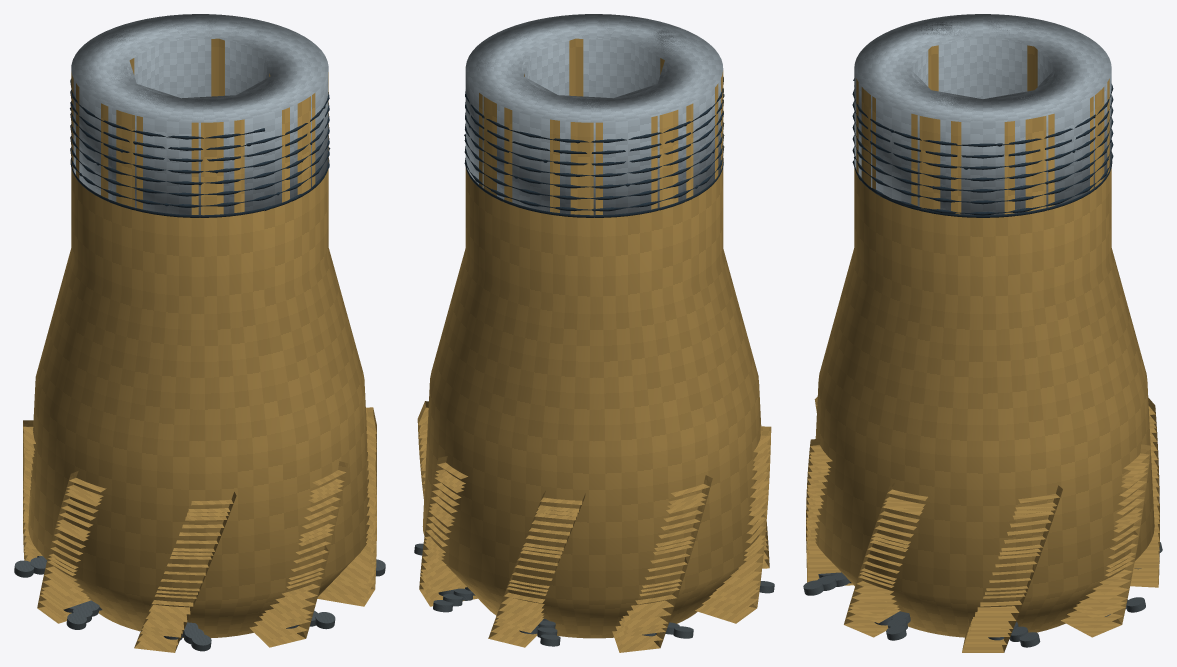
Rendered from core-bit.glb.
3 views of the same model, side by side, from view 1: azimuth 30°, elevation 25°; view 2: azimuth 150°, elevation 25°; view 3: azimuth 270°, elevation 25° (orthographic).
Visible parts, largest first — view 1: bit-body (×3), uphole-connection (×4), cutting-blades (×3), cutters; view 2: bit-body (×3), uphole-connection (×4), cutting-blades (×3), cutters; view 3: bit-body (×3), uphole-connection (×4), cutting-blades (×3), cutters.
Boxes of the visible parts, x1,y1,x2,y2 form: bit-body (×3): (28, 38, 369, 638); uphole-connection (×4): (70, 14, 329, 217); cutting-blades (×3): (23, 407, 376, 652); cutters: (14, 557, 385, 651); bit-body (×3): (422, 38, 761, 638); uphole-connection (×4): (464, 14, 724, 217); cutting-blades (×3): (417, 401, 771, 652); cutters: (414, 543, 774, 646); bit-body (×3): (815, 45, 1154, 637); uphole-connection (×4): (852, 14, 1113, 217); cutting-blades (×3): (806, 397, 1159, 652); cutters: (803, 542, 1162, 647).
Bounding box in the file's own units: 0.1559 × 0.25 × 0.1563.
4 materials, 4 textured.
